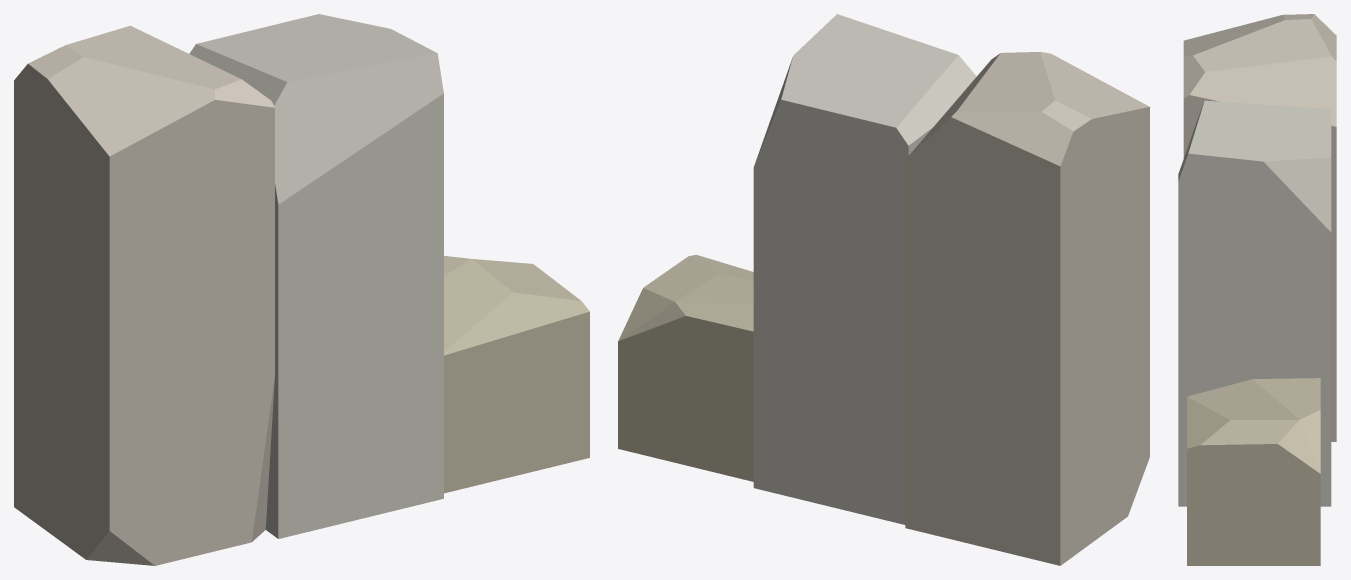
The model's file is Rocks_Square_m_04.fbx.
3 renders of one model, left to right at view 1: azimuth 30°, elevation 25°; view 2: azimuth 150°, elevation 25°; view 3: azimuth 270°, elevation 25°, orthographic. The views are drawn at different scales.
Visible parts, largest first — view 1: Rocks_Square_m_04; view 2: Rocks_Square_m_04; view 3: Rocks_Square_m_04.
Boxes of the visible parts, x1,y1,x2,y2 form: Rocks_Square_m_04: [14, 14, 589, 565]; Rocks_Square_m_04: [618, 14, 1149, 565]; Rocks_Square_m_04: [1178, 14, 1336, 565].
Size of the model in its own units: 126 by 116 by 44.71.
